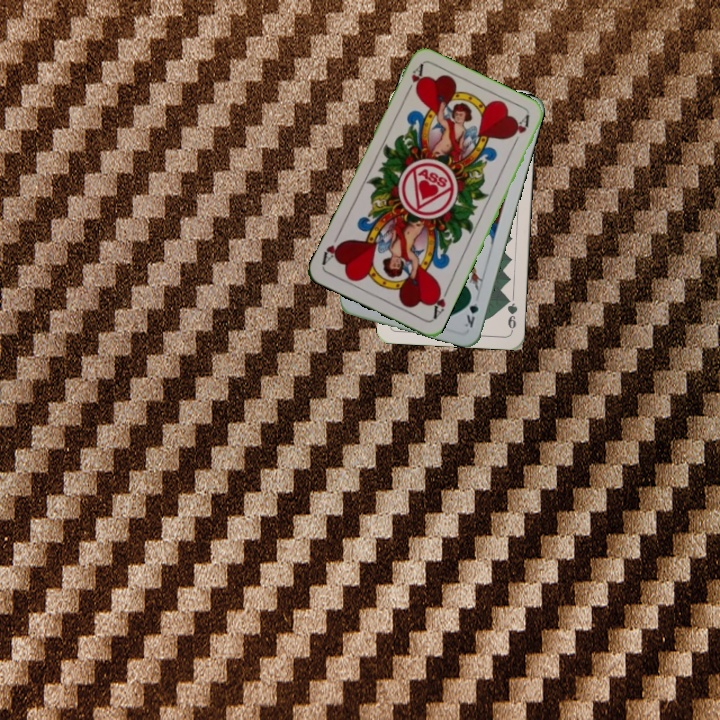G9: (502, 293, 520, 334)
GK: (460, 290, 482, 330)
HA: (401, 61, 426, 99), (428, 283, 451, 322)
